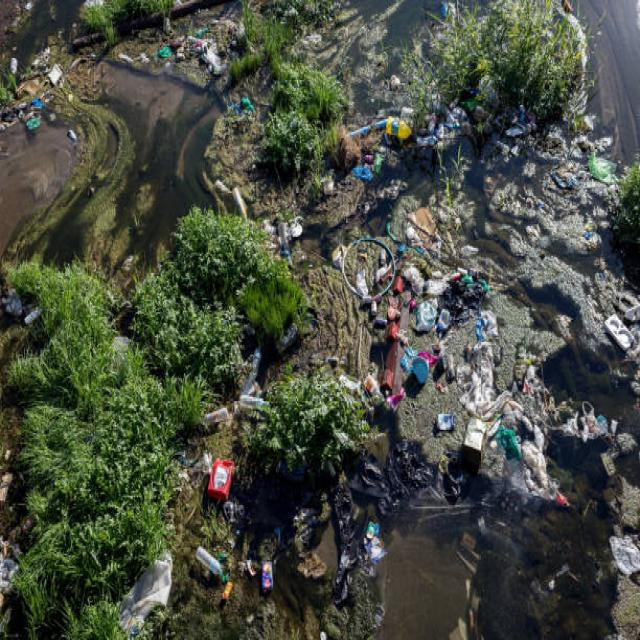plastic: (468, 322, 532, 478), (396, 254, 446, 388), (160, 42, 222, 69), (381, 116, 415, 151), (193, 543, 227, 577), (203, 461, 227, 497)
